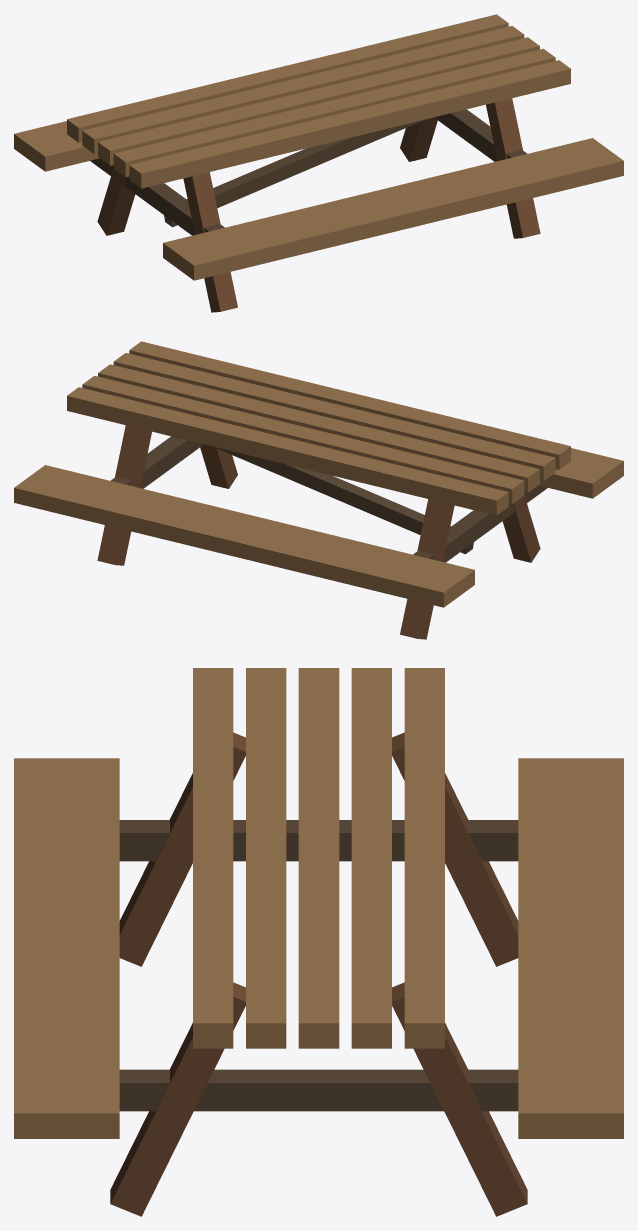
File: Prop_Daily_PicnicTable_001.glb
3 renders of one model, top to bottom at view 1: azimuth 30°, elevation 25°; view 2: azimuth 150°, elevation 25°; view 3: azimuth 270°, elevation 25°, orthographic. The views are drawn at different scales.
Parts seen in each view (by area): view 1: Prop_Daily_PicnicTable_001; view 2: Prop_Daily_PicnicTable_001; view 3: Prop_Daily_PicnicTable_001.
Boxes of the visible parts, x1,y1,x2,y2 form: Prop_Daily_PicnicTable_001: [14, 14, 623, 312]; Prop_Daily_PicnicTable_001: [14, 341, 623, 639]; Prop_Daily_PicnicTable_001: [14, 668, 623, 1216].
Size of the model in its own units: 2.7 by 0.8475 by 1.96.
